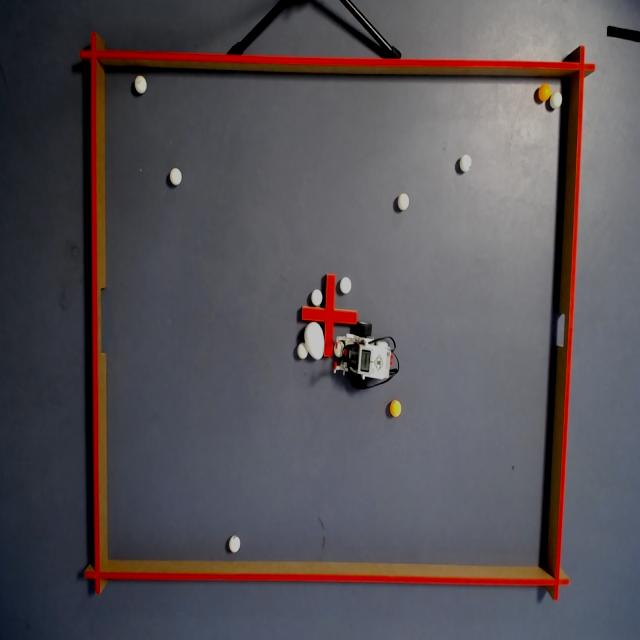boundaries: (540, 42, 594, 600), (78, 32, 594, 79), (75, 554, 572, 600), (76, 32, 114, 597)
cross: (301, 272, 358, 358)
egg: (303, 322, 325, 359)
large_goal: (83, 275, 115, 368)
orange_ball: (389, 398, 402, 418), (538, 82, 551, 102)
robot: (334, 321, 399, 391)
small_goal: (549, 301, 580, 362)
white_ball: (169, 167, 183, 186), (134, 75, 148, 94), (459, 153, 472, 173), (227, 535, 241, 553), (396, 192, 409, 211), (550, 90, 563, 108), (310, 288, 323, 306), (340, 275, 351, 295), (297, 342, 309, 359), (334, 341, 345, 358)
